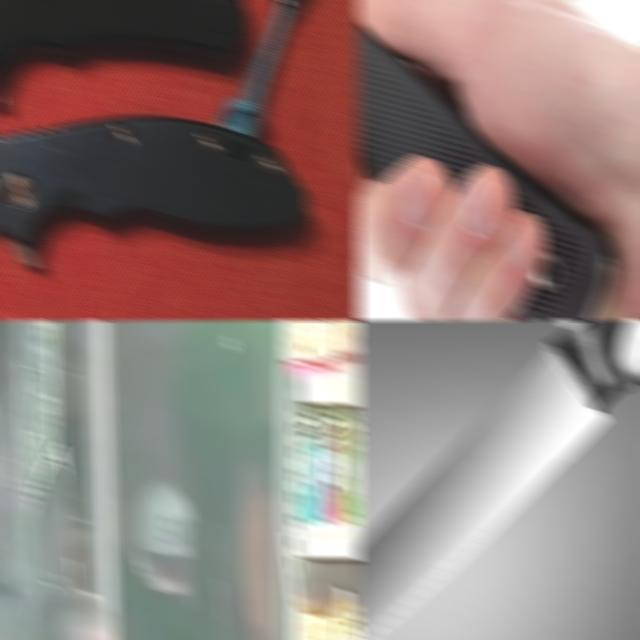Knife: (355, 320, 632, 640), (355, 22, 616, 320)
Knife_Handle: (355, 320, 640, 640)
